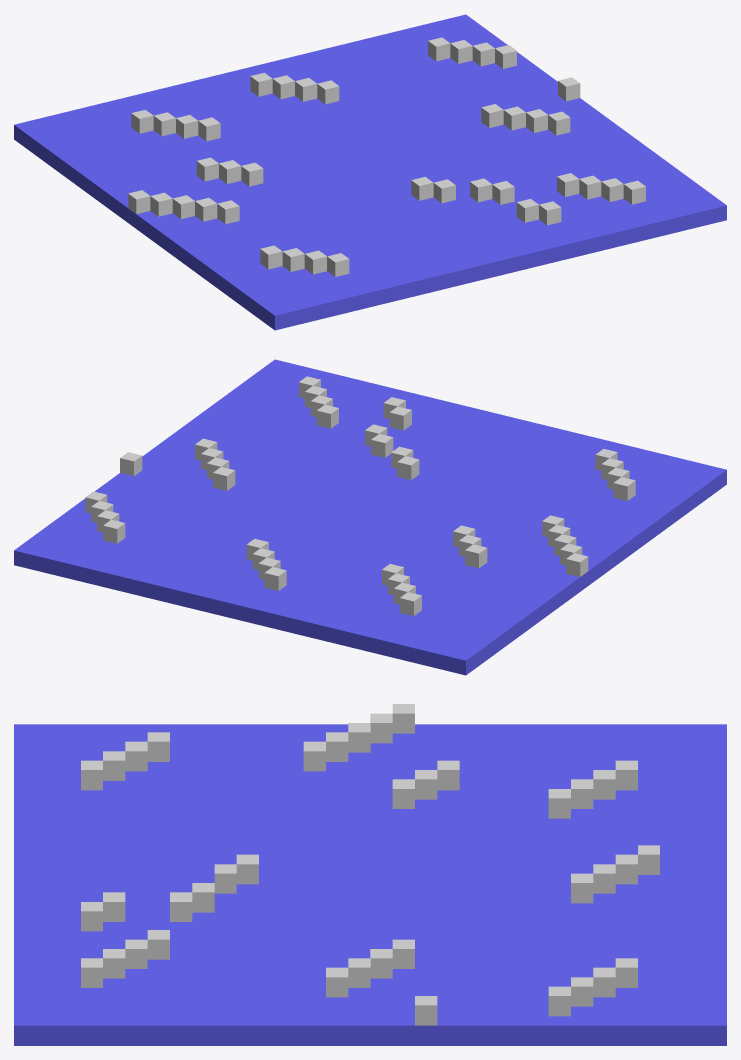
Rendered from water4.obj.
The picture shows the model from 3 angles, top to bottom: view 1: azimuth 30°, elevation 25°; view 2: azimuth 150°, elevation 25°; view 3: azimuth 270°, elevation 25°; orthographic projection. The views are drawn at different scales.
Size of the model in its own units: 32 by 2 by 32.
Materials: 1 (1 with a texture image).
